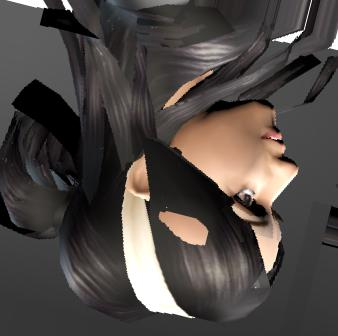clip: (157, 205, 215, 249)
